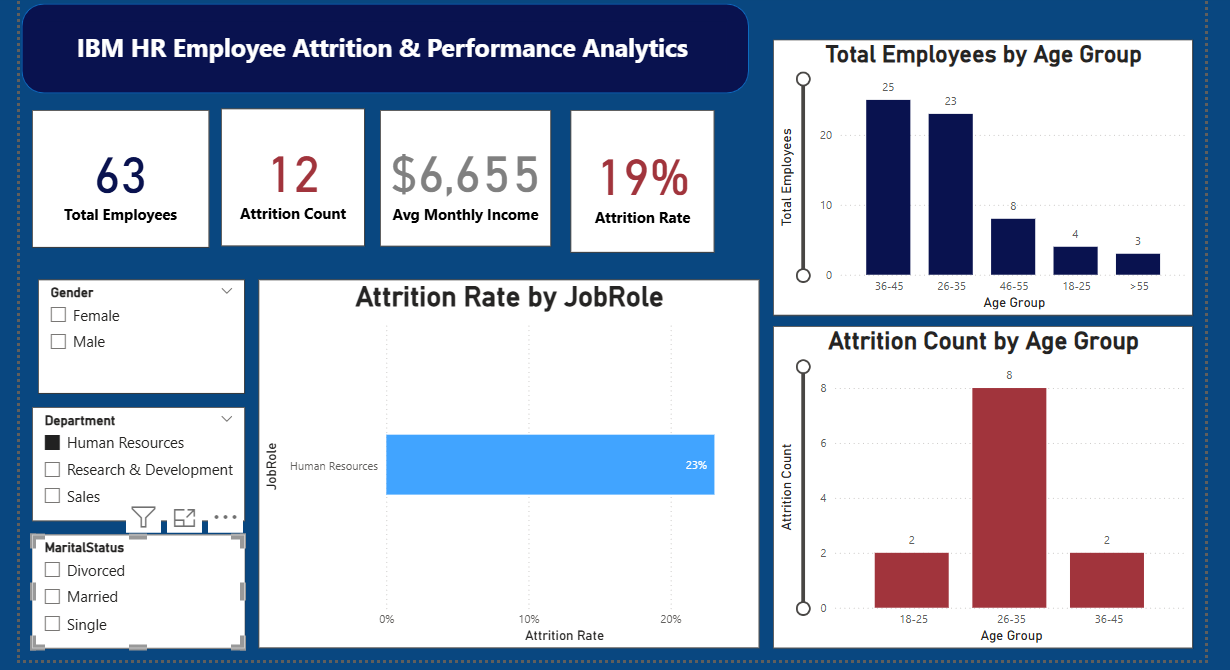

This screenshot's page, from the dashboard's own definition file:
{"tool":"powerbi","page":{"name":"Page 1","canvas":[1280,720],"ordinal":0},"visuals":[{"type":"clusteredColumnChart","fields":{"Category":["Table.Age Group"],"Y":["_Measures.Total Employees"]},"box":[812.9,50.2,453.4,297.9],"z":0},{"type":"card","fields":{"Values":["_Measures.Total Employees"]},"box":[13,126.3,191.1,149],"z":1000},{"type":"card","fields":{"Values":["_Measures.Attrition Count"]},"box":[217,124.7,155.4,149],"z":2000},{"type":"card","fields":{"Values":["_Measures.Attrition Rate"]},"box":[594.3,126.3,155.4,153.8],"z":3000},{"type":"card","fields":{"Values":["_Measures.Avg Monthly Income"]},"box":[388.6,126.3,184.6,147.3],"z":4000},{"type":"clusteredBarChart","fields":{"Category":["WA_Fn-UseC_-HR-Employee-Attrition.JobRole"],"Y":["_Measures.Attrition Rate"]},"box":[257.5,309.3,540.8,398.3],"z":5000},{"type":"clusteredColumnChart","fields":{"Category":["Table.Age Group"],"Y":["_Measures.Attrition Count"]},"box":[812.9,359.5,453.4,348.1],"z":6000},{"type":"slicer","fields":{"Values":["WA_Fn-UseC_-HR-Employee-Attrition.Department"]},"box":[13,446.9,229.9,123.1],"z":7000},{"type":"slicer","fields":{"Values":["WA_Fn-UseC_-HR-Employee-Attrition.Gender"]},"box":[19.4,309.3,223.5,123.1],"z":8000},{"type":"slicer","fields":{"Values":["WA_Fn-UseC_-HR-Employee-Attrition.MaritalStatus"]},"box":[13,584.5,229.9,123.1],"z":9000},{"type":"shape","box":[1.6,11.3,785.3,97.2],"z":10000},{"type":"textbox","box":[19.4,30.8,743.2,56.7],"z":11000}]}

Visuals, with their boxes in screenshot pixels (x1, y1, x2, y2):
clusteredColumnChart - Table.Age Group x _Measures.Total Employees: {"x1": 771, "y1": 40, "x2": 1187, "y2": 313}
card - _Measures.Total Employees: {"x1": 38, "y1": 109, "x2": 213, "y2": 246}
card - _Measures.Attrition Count: {"x1": 225, "y1": 108, "x2": 367, "y2": 245}
card - _Measures.Attrition Rate: {"x1": 571, "y1": 109, "x2": 713, "y2": 250}
card - _Measures.Avg Monthly Income: {"x1": 382, "y1": 109, "x2": 551, "y2": 244}
clusteredBarChart - WA_Fn-UseC_-HR-Employee-Attrition.JobRole x _Measures.Attrition Rate: {"x1": 262, "y1": 277, "x2": 758, "y2": 642}
clusteredColumnChart - Table.Age Group x _Measures.Attrition Count: {"x1": 771, "y1": 323, "x2": 1187, "y2": 642}
slicer - WA_Fn-UseC_-HR-Employee-Attrition.Department: {"x1": 38, "y1": 403, "x2": 248, "y2": 516}
slicer - WA_Fn-UseC_-HR-Employee-Attrition.Gender: {"x1": 43, "y1": 277, "x2": 248, "y2": 390}
slicer - WA_Fn-UseC_-HR-Employee-Attrition.MaritalStatus: {"x1": 38, "y1": 530, "x2": 248, "y2": 642}
shape: {"x1": 27, "y1": 4, "x2": 747, "y2": 93}
textbox: {"x1": 43, "y1": 22, "x2": 725, "y2": 74}
